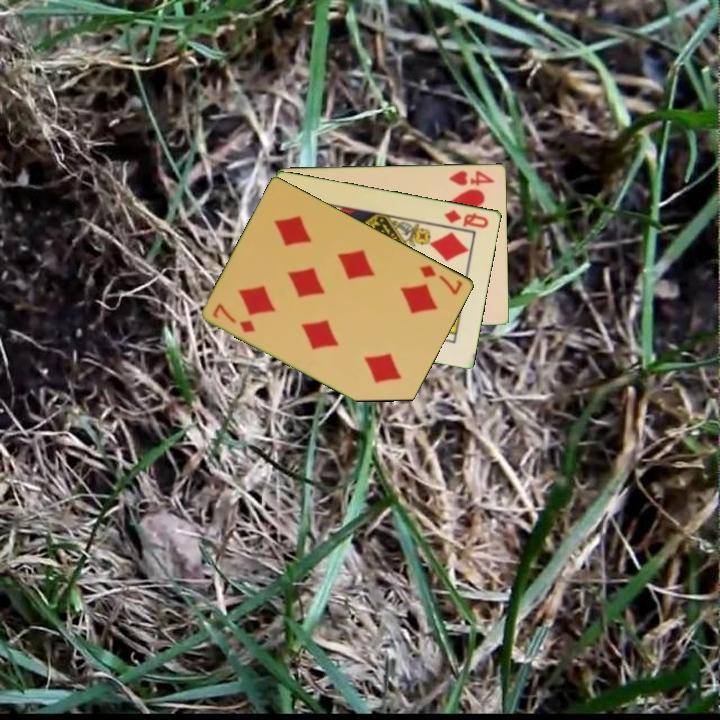4h: (446, 167, 497, 188)
7d: (416, 261, 466, 298), (209, 300, 258, 335)
Qd: (441, 206, 492, 231)
